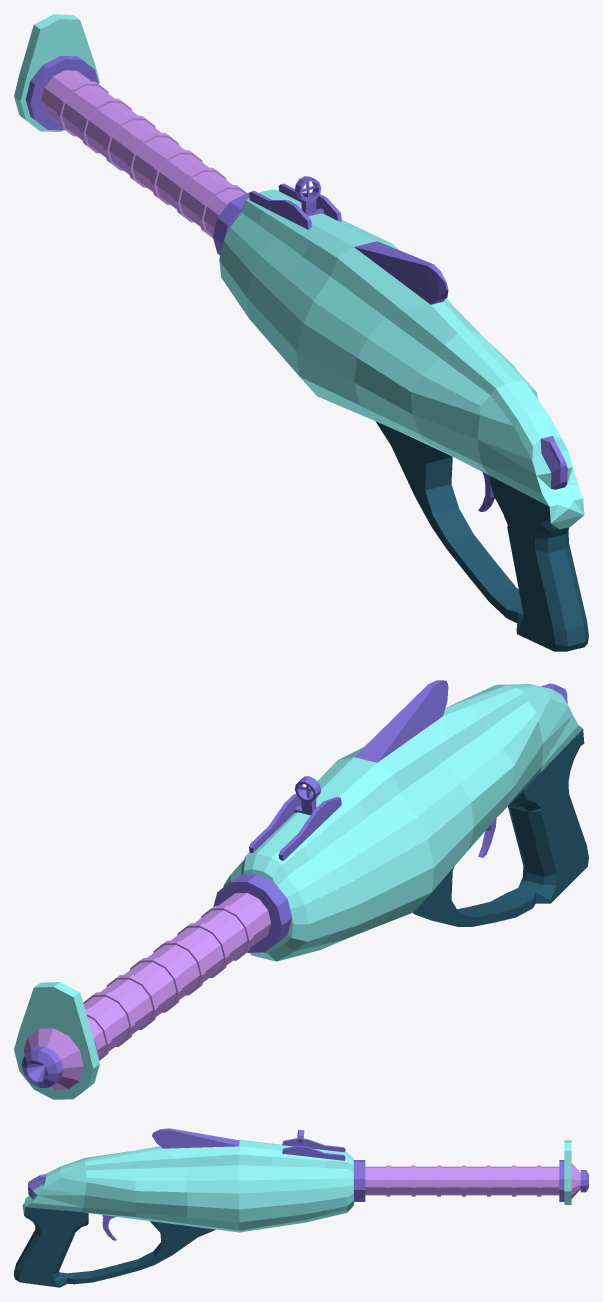
File: freeze_ray.fbx
3 renders of one model, top to bottom at view 1: azimuth 30°, elevation 25°; view 2: azimuth 150°, elevation 25°; view 3: azimuth 270°, elevation 25°, orthographic. The views are drawn at different scales.
Visible parts, largest first — view 1: Freeze Ray; view 2: Freeze Ray; view 3: Freeze Ray.
Boxes of the visible parts, <box> form: Freeze Ray: <box>14,14,588,651</box>; Freeze Ray: <box>14,680,588,1099</box>; Freeze Ray: <box>14,1128,588,1287</box>.
Size of the model in its own units: 201 by 403 by 1363.
